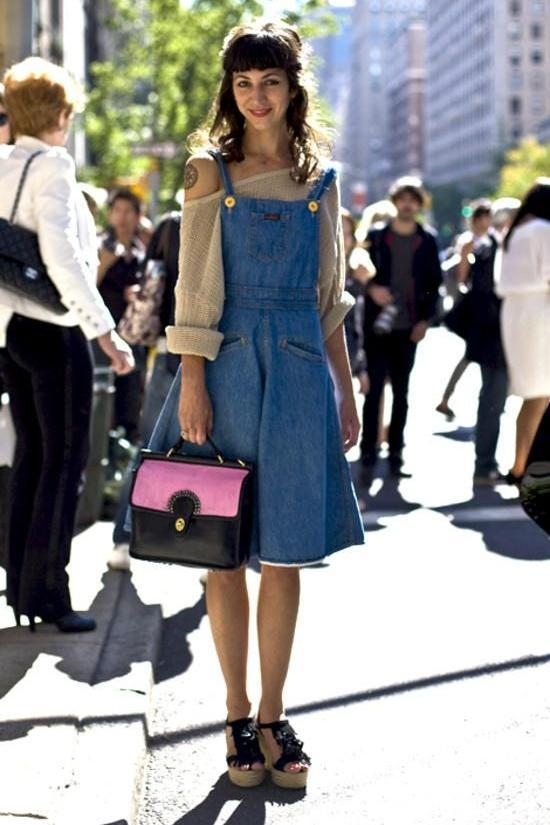dress: (123, 166, 366, 570)
